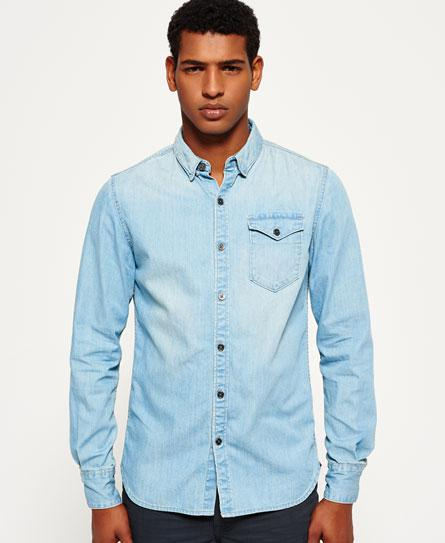teeshirt: (59, 119, 382, 518)
